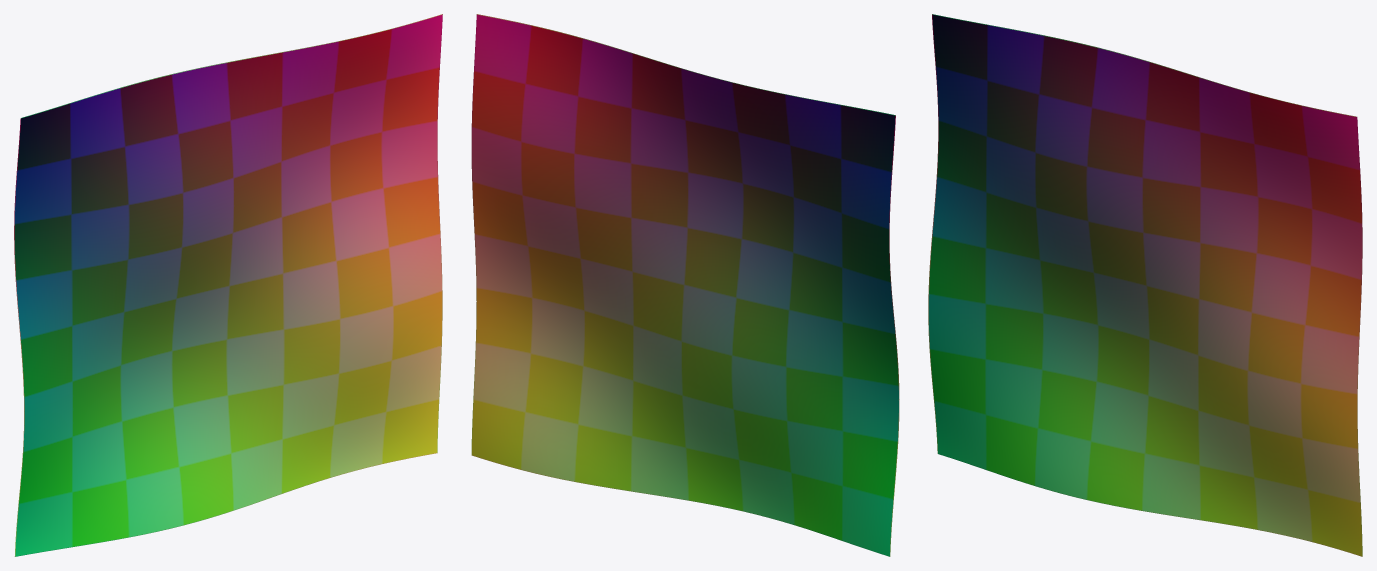
File: Tile_+005_+006.obj
3 views of the same model, side by side, from view 1: azimuth 30°, elevation 25°; view 2: azimuth 150°, elevation 25°; view 3: azimuth 330°, elevation 25° (orthographic).
Bounding box in the file's own units: 100 × 100 × 5.54.
